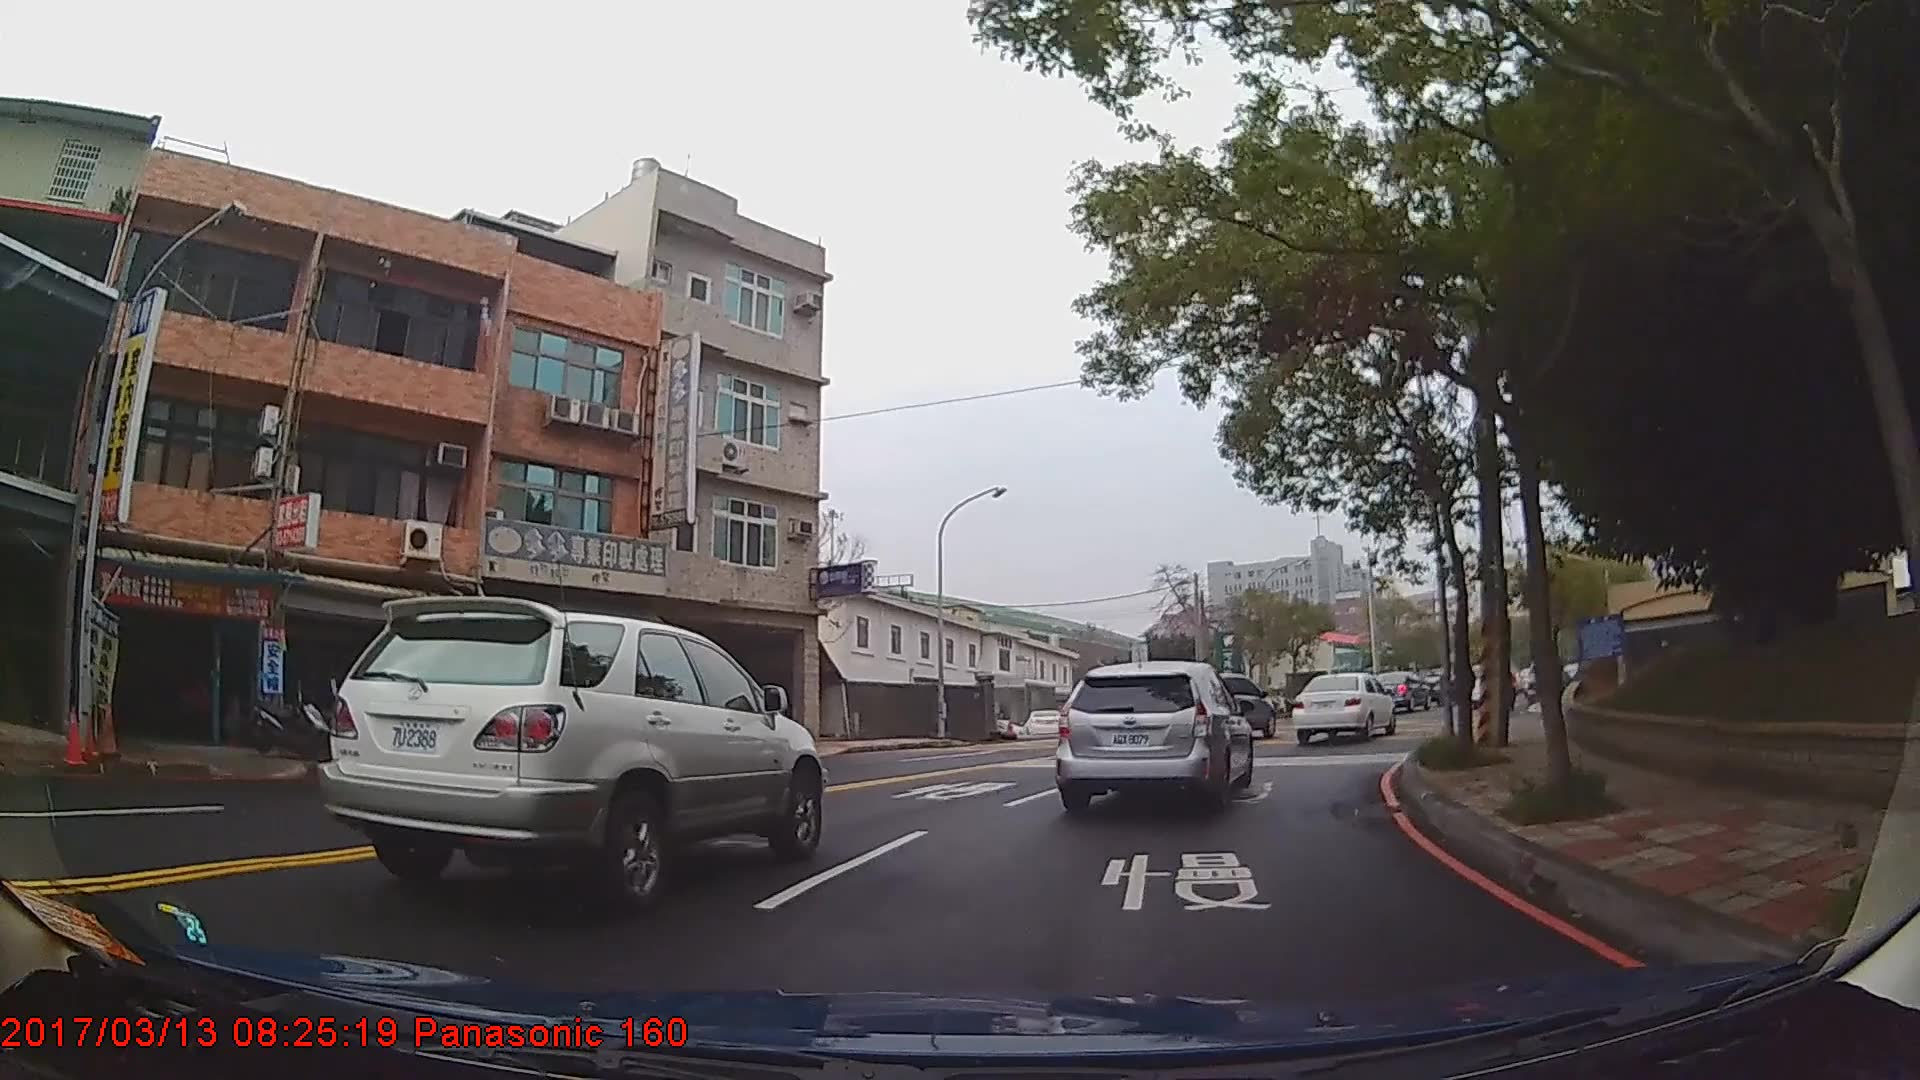vehicle: (315, 595, 825, 915), (1050, 658, 1251, 808), (1288, 670, 1396, 742), (1187, 670, 1276, 742), (1367, 667, 1433, 712), (1021, 708, 1065, 737)
